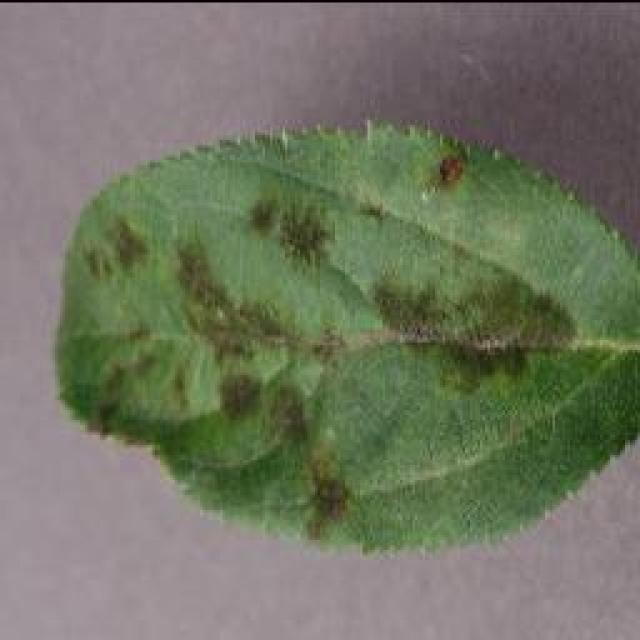apple scab disease: (52, 115, 638, 557)
